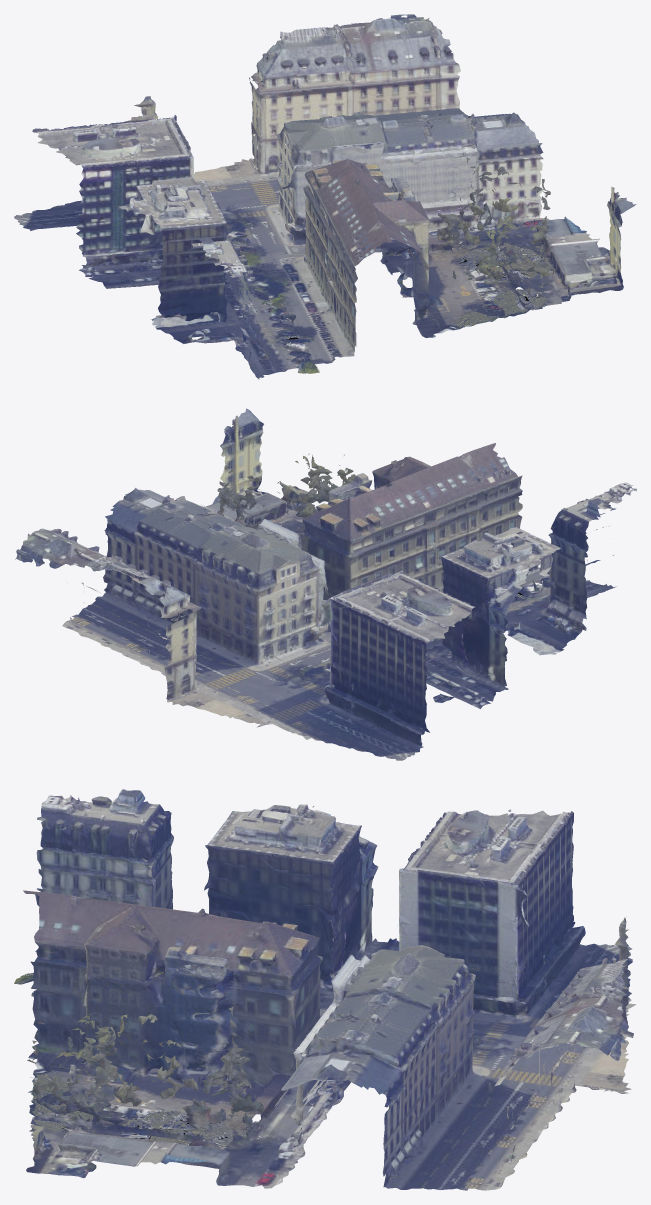
The picture shows the model from 3 angles, top to bottom: view 1: azimuth 30°, elevation 25°; view 2: azimuth 150°, elevation 25°; view 3: azimuth 270°, elevation 25°; orthographic projection. The views are drawn at different scales.
Bounding box in the file's own units: 104 × 29.88 × 106.
Materials: 1 (1 with a texture image).
